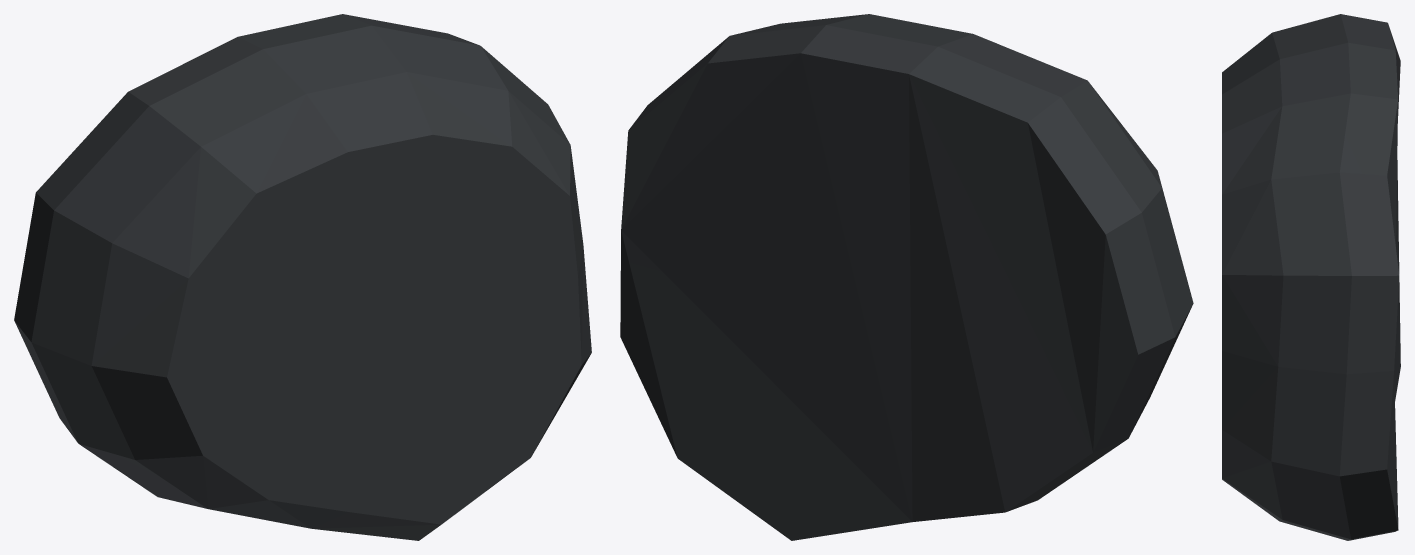
File: FERNSTONE_ORE.shadow.glb
3 renders of one model, left to right at view 1: azimuth 30°, elevation 25°; view 2: azimuth 150°, elevation 25°; view 3: azimuth 270°, elevation 25°, orthographic. The views are drawn at different scales.
Visible parts, largest first — view 1: Body_Mesh; view 2: Body_Mesh; view 3: Body_Mesh.
Boxes of the visible parts, x1,y1,x2,y2 form: Body_Mesh: (14, 14, 591, 540); Body_Mesh: (620, 14, 1193, 540); Body_Mesh: (1222, 14, 1400, 540).
Bounding box in the file's own units: 0.3083 × 0.2807 × 0.1018.
1 material, 1 textured.
